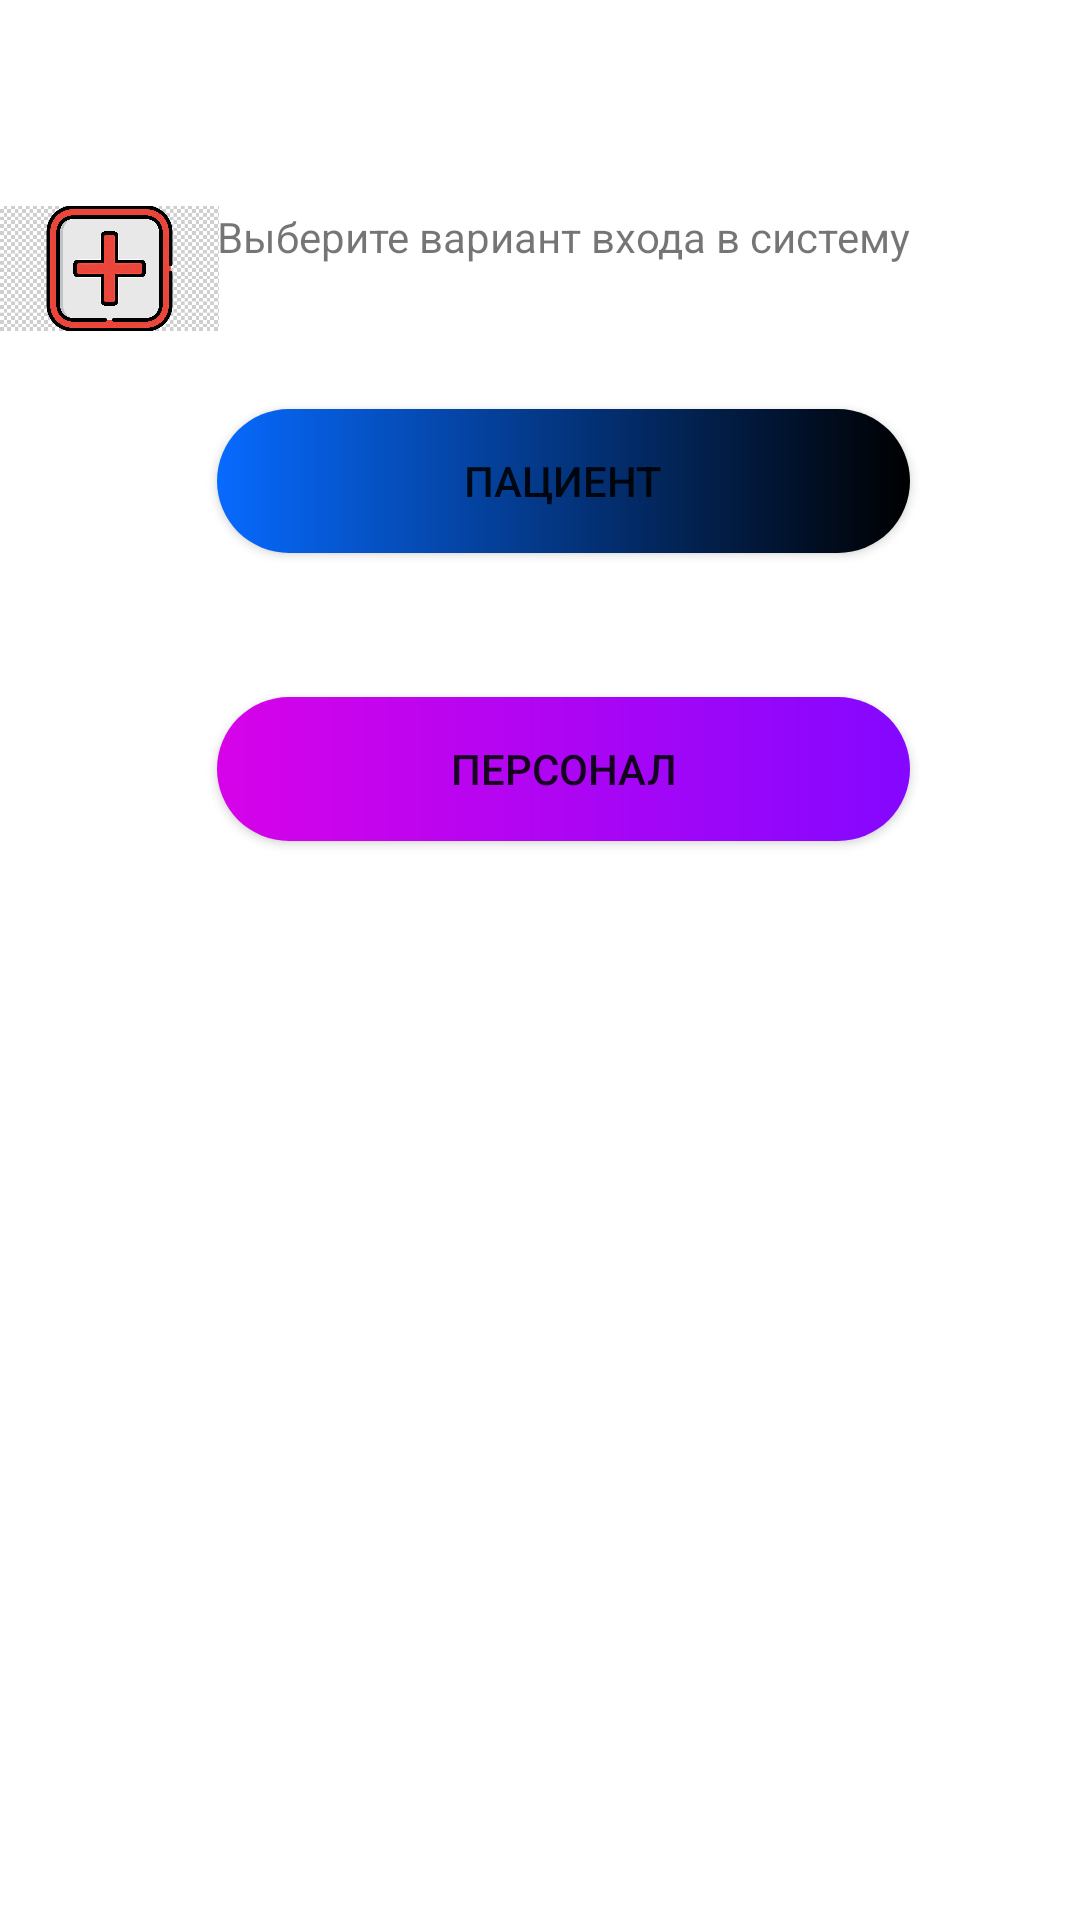

Icons on this 1080w x 1920h Android screen, each with the point to tap as (x=x, y=y):
znac hospital: (x=109, y=268)
